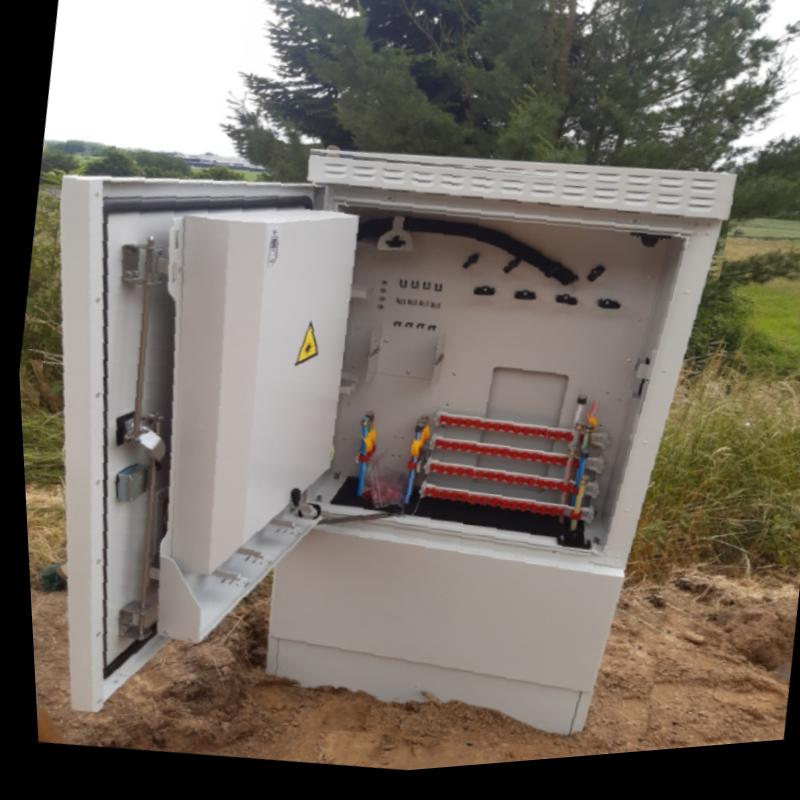NT-Gehause: (59, 162, 731, 743)
